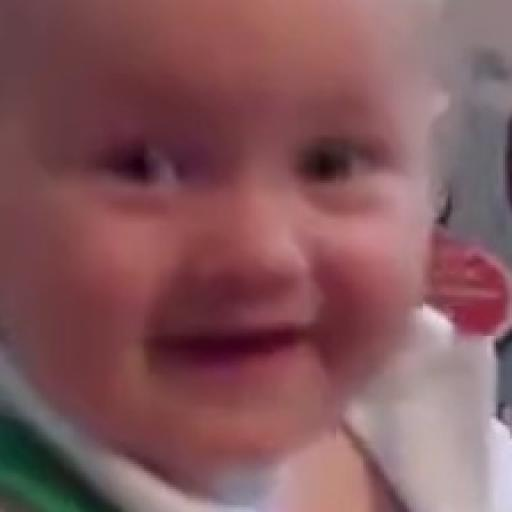Autism: (14, 5, 452, 464)
